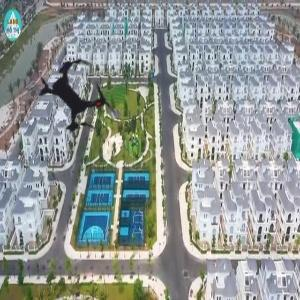drone: (11, 28, 147, 164)
